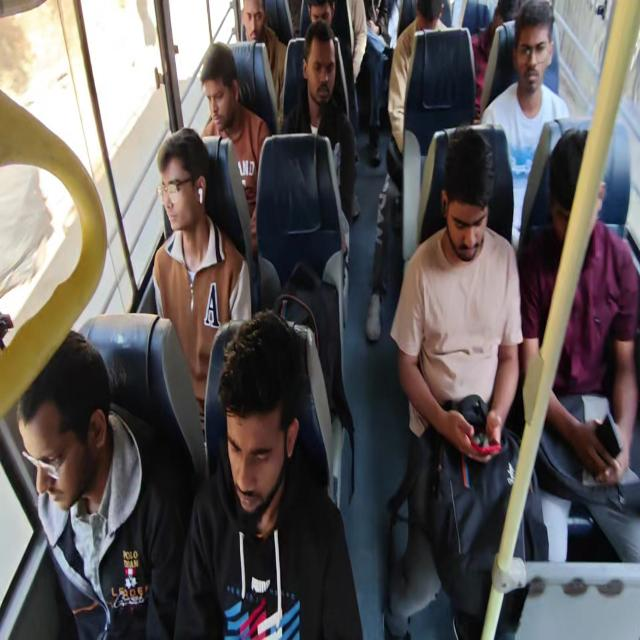person: (388, 126, 528, 637), (173, 309, 363, 638), (517, 125, 639, 561), (16, 329, 184, 638), (152, 126, 252, 442), (365, 0, 449, 342), (480, 0, 569, 249), (281, 19, 358, 225), (199, 41, 271, 257), (387, 0, 449, 190), (470, 0, 522, 118), (240, 0, 287, 118), (301, 0, 367, 84)
